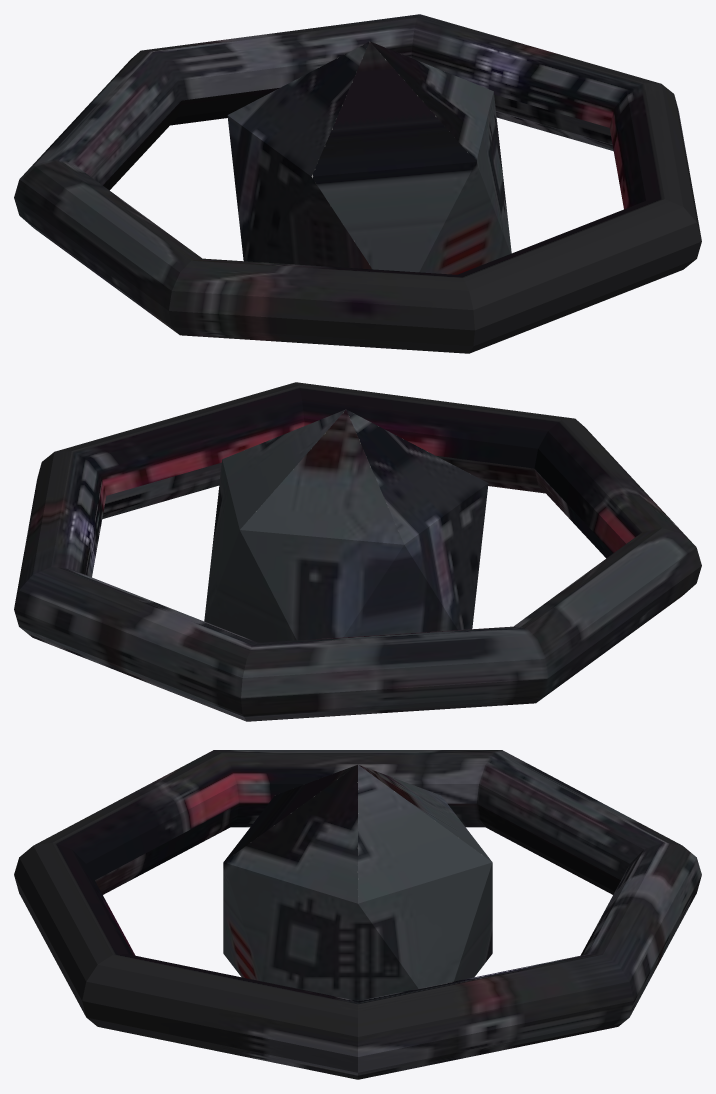
File: PowerUp.dae
The picture shows the model from 3 angles, top to bottom: view 1: azimuth 30°, elevation 25°; view 2: azimuth 150°, elevation 25°; view 3: azimuth 270°, elevation 25°; orthographic projection.
Parts seen in each view (by area): view 1: Torus, PowerUp; view 2: Torus, PowerUp; view 3: Torus, PowerUp.
Part boxes in pixels (x1,y1,x2,y2): Torus: (14, 14, 701, 353); PowerUp: (227, 41, 511, 274); Torus: (14, 382, 701, 721); PowerUp: (204, 409, 488, 642); Torus: (14, 750, 701, 1079); PowerUp: (223, 764, 492, 1000).
Size of the model in its own units: 4.24 by 4.35 by 2.
Materials: 2 (2 with a texture image).
